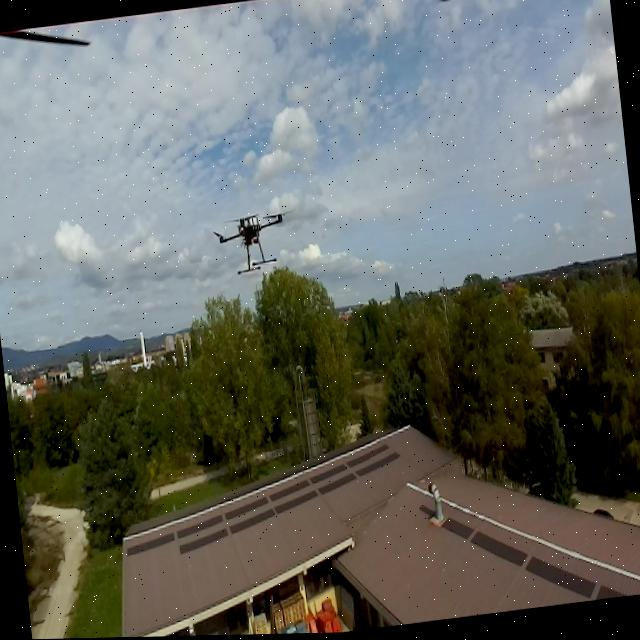drone: (193, 177, 311, 298)
